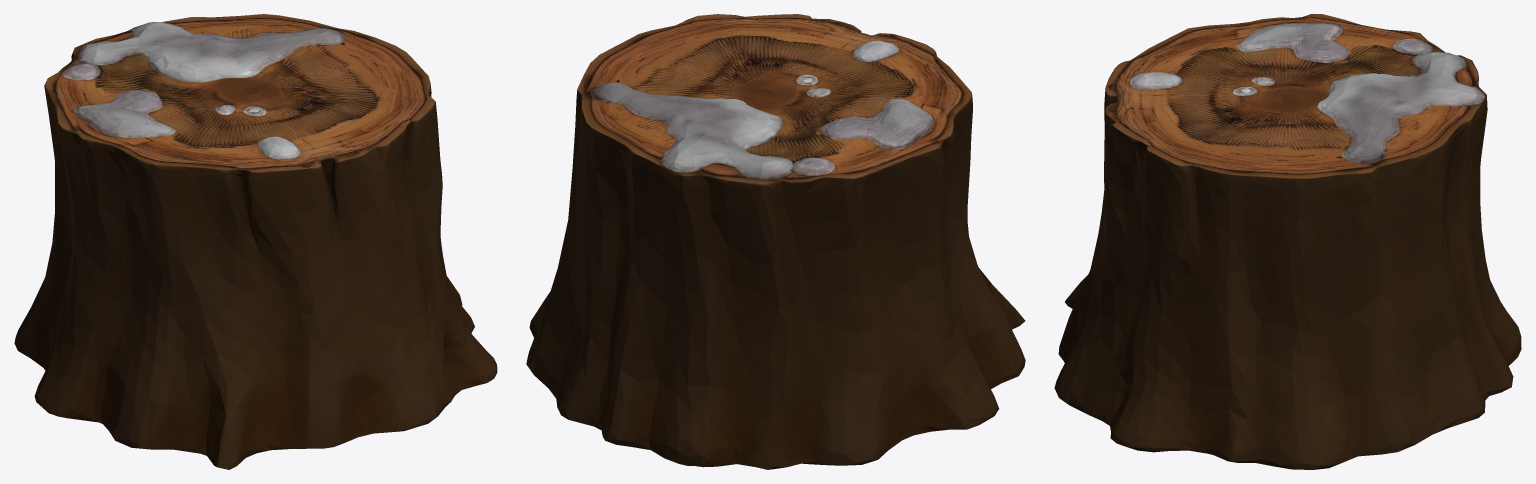
File: stump-squat.glb
3 renders of one model, left to right at view 1: azimuth 30°, elevation 25°; view 2: azimuth 150°, elevation 25°; view 3: azimuth 270°, elevation 25°, orthographic. The views are drawn at different scales.
Visible parts, largest first — view 1: geometry_0; view 2: geometry_0; view 3: geometry_0.
Boxes of the visible parts, <box> form: geometry_0: <box>14,14,497,469</box>; geometry_0: <box>526,14,1025,469</box>; geometry_0: <box>1054,14,1521,469</box>.
Bounding box in the file's own units: 0.9929 × 0.6171 × 0.939.
1 material, 1 textured.
